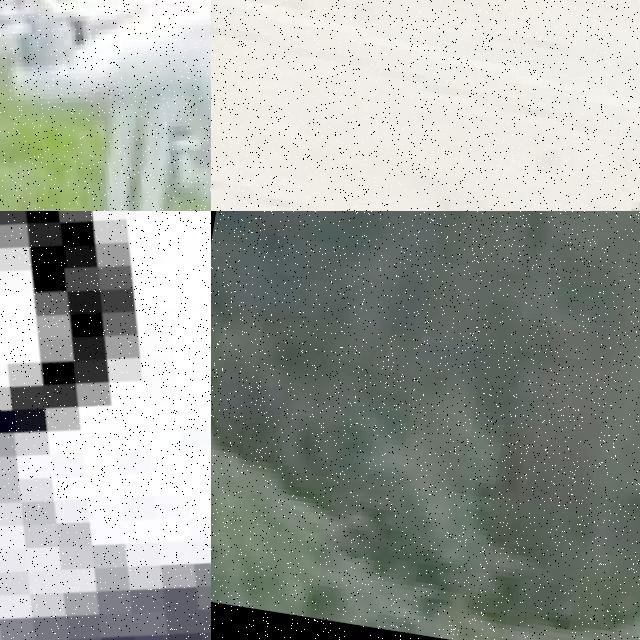drone: (0, 211, 211, 640), (0, 0, 211, 211)
